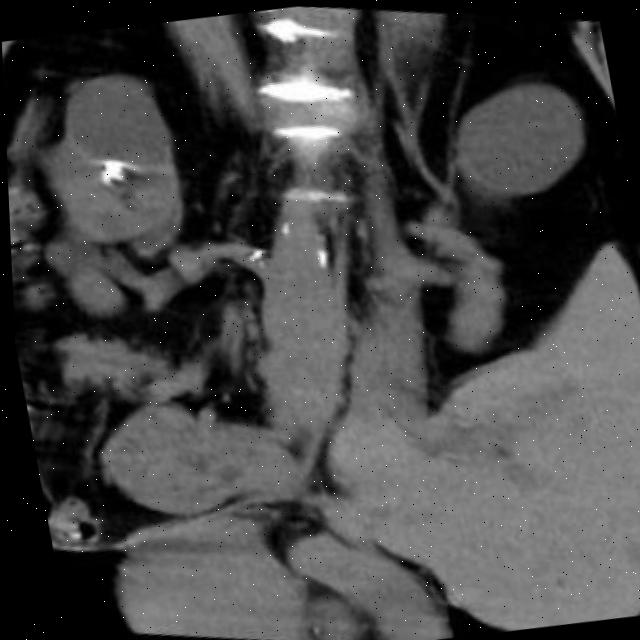Tas_Var: (97, 159, 126, 176), (96, 169, 113, 183), (109, 170, 123, 184)
